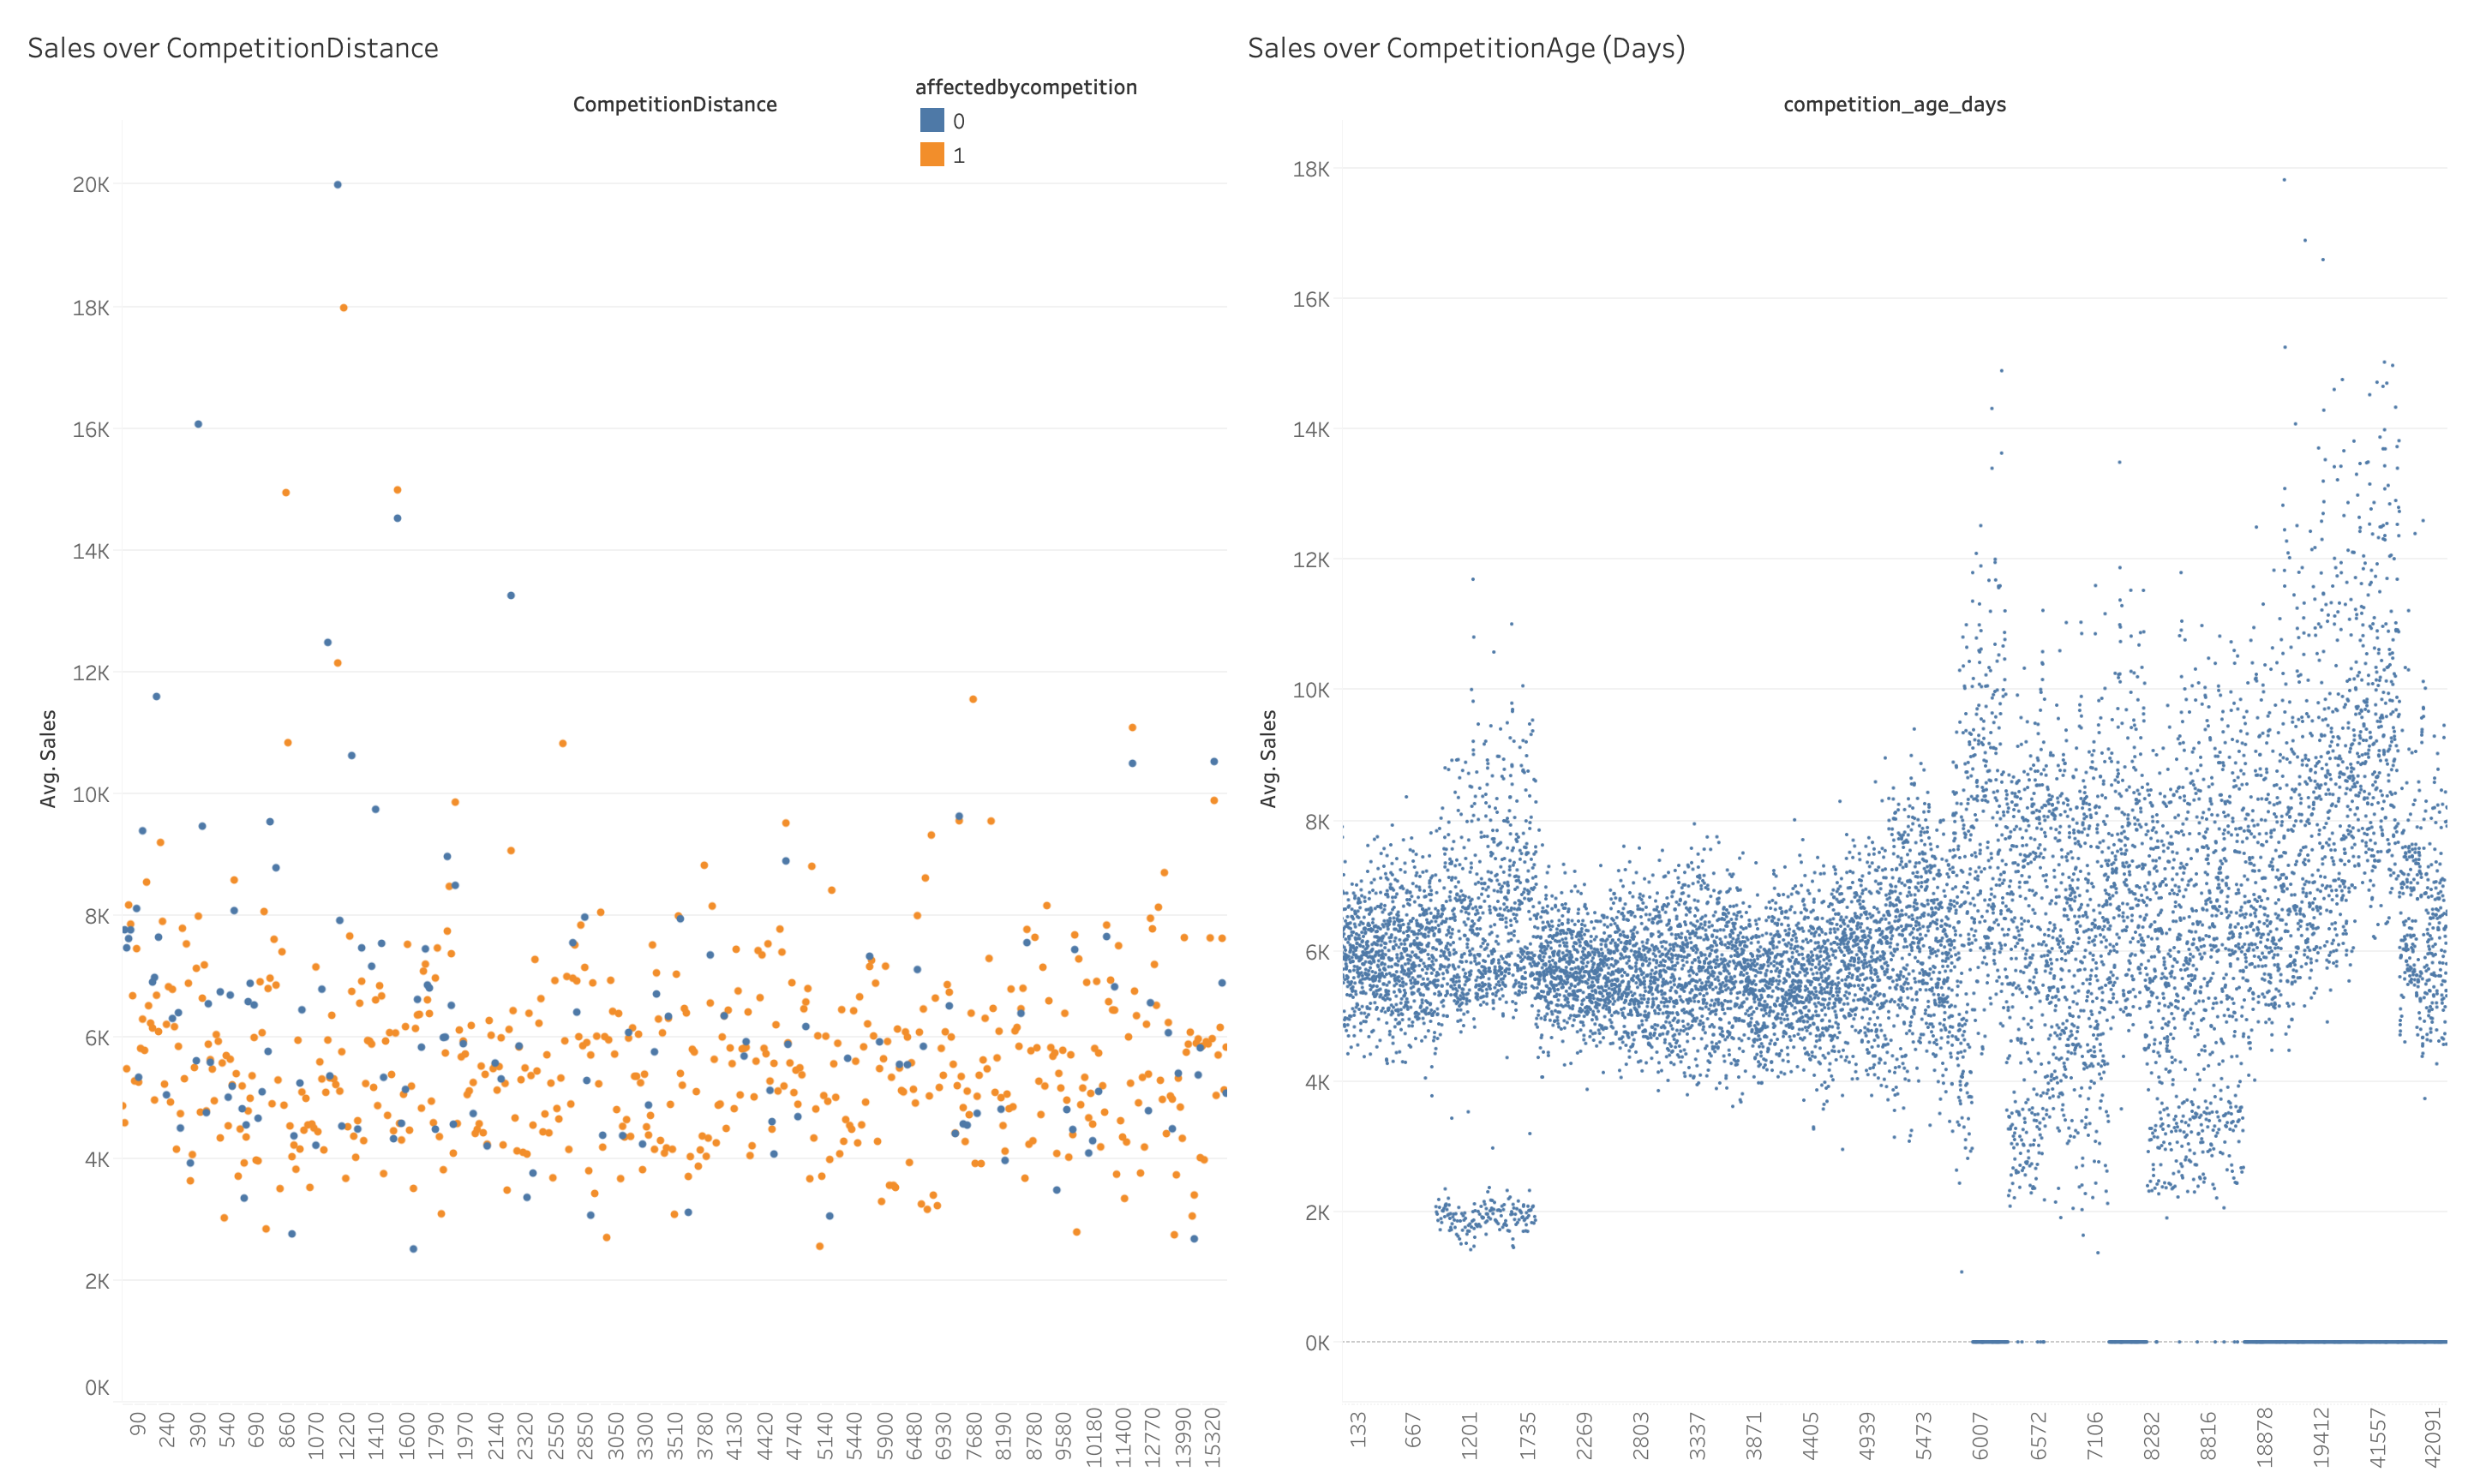

Layout of this report page (visuals, bound fields, positions):
{"tool":"tableau","page":{"name":"Dashboard 2","canvas":[1000,1000],"units":"permille","ordinal":6},"visuals":[{"type":"worksheet","title":"CompDistance","mark":"Circle","rows":["Sales"],"cols":["CompetitionDistance"],"box":[6.5,11.9,493.5,976.3]},{"type":"worksheet","title":"CompAge","mark":"Circle","rows":["Sales"],"cols":["competition_age_days"],"box":[500,11.9,493.5,976.3]},{"type":"legend","title":"CompDistance","param":"[federated.186bjvi17ohryo11no4zy1xzhkgd].[none:affectedbycompetition:ok]","box":[370.9,48.6,113.6,85.4]}]}

Visuals, with their boxes on the dashboard's canvas, which has no fixed pixel size, in thousandths of its width and height (x1, y1, x2, y2). These are canvas units, not pixel positions in the 2468x1484 screenshot, which may show the page scaled, cropped or inside an application window:
"CompDistance" worksheet (Circle marks): detection(6, 12, 500, 988)
"CompAge" worksheet (Circle marks): detection(500, 12, 994, 988)
"CompDistance" legend: detection(371, 49, 484, 134)
